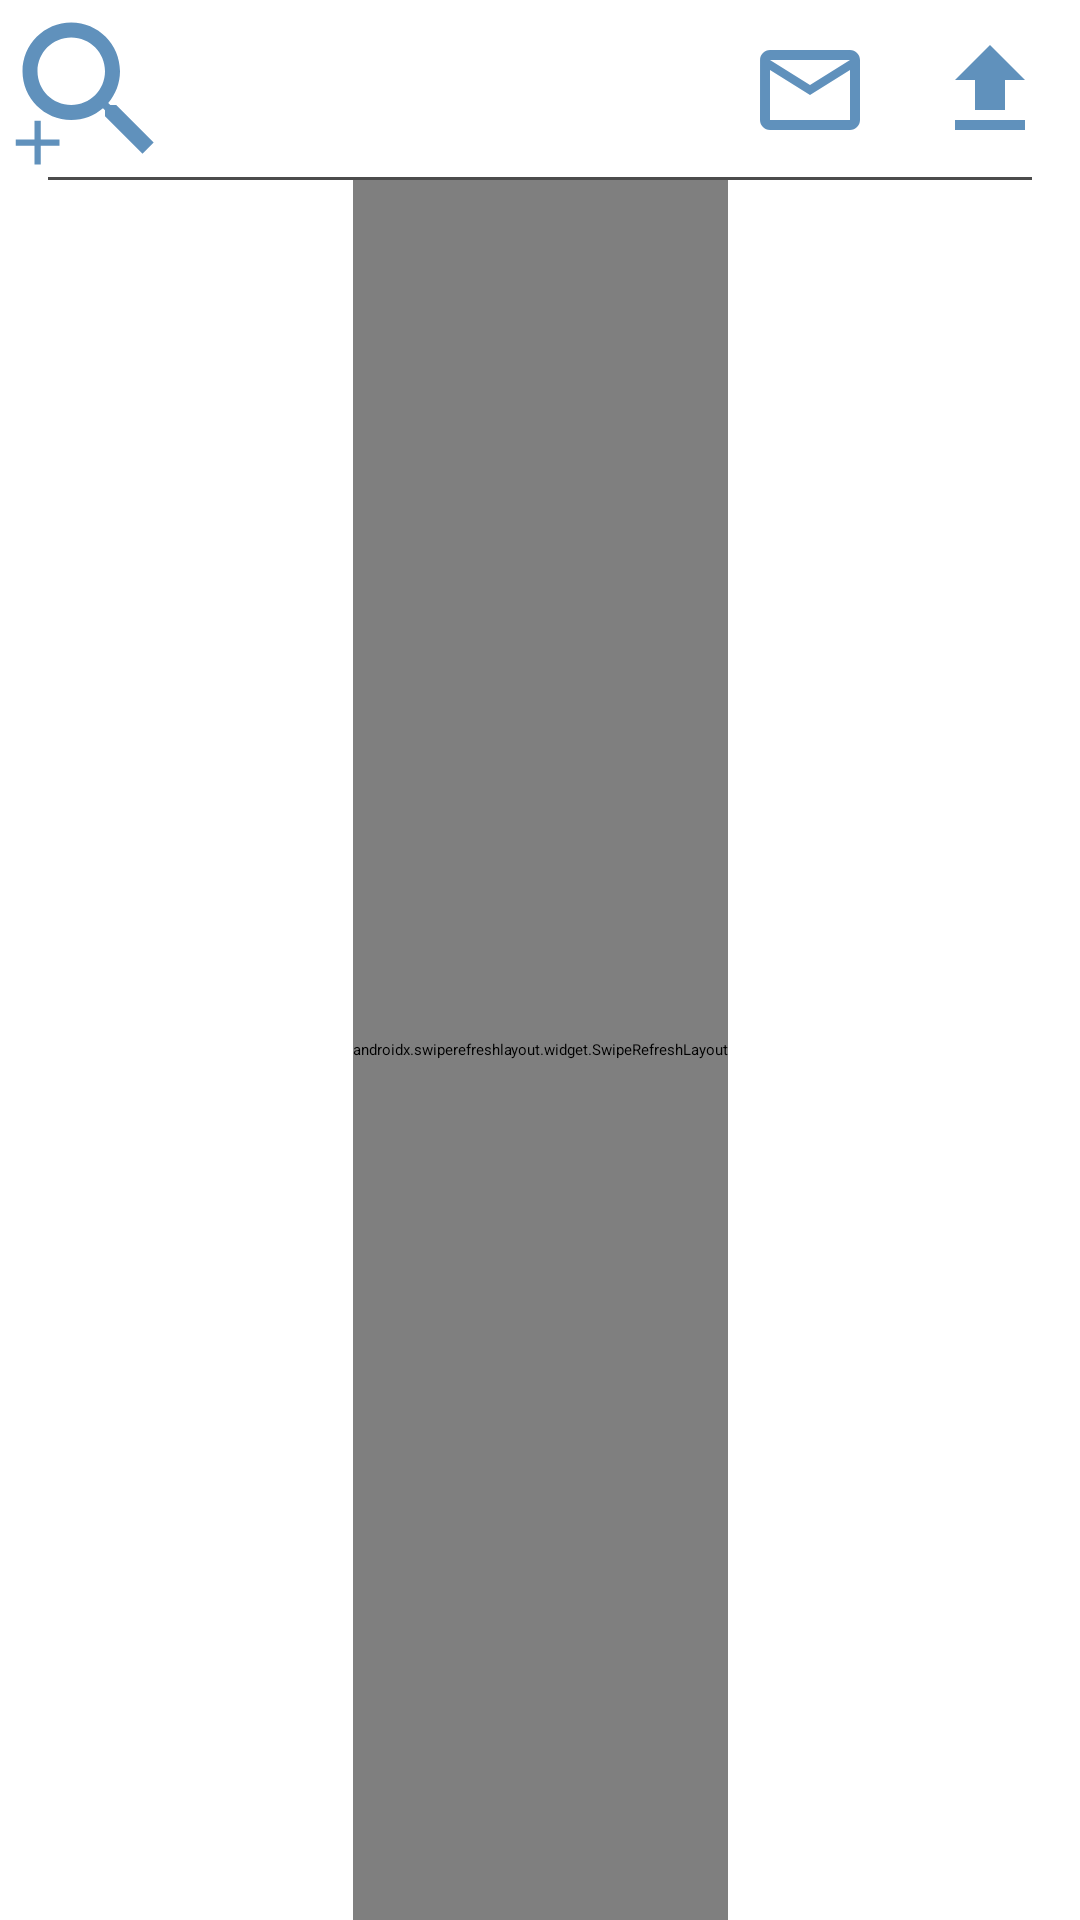

Icons on this 1080×1920 Android screen, each with its box as bbox(x1, y1, x2, y2):
file upload: bbox(955, 45, 1025, 130)
mail: bbox(760, 50, 860, 130)
